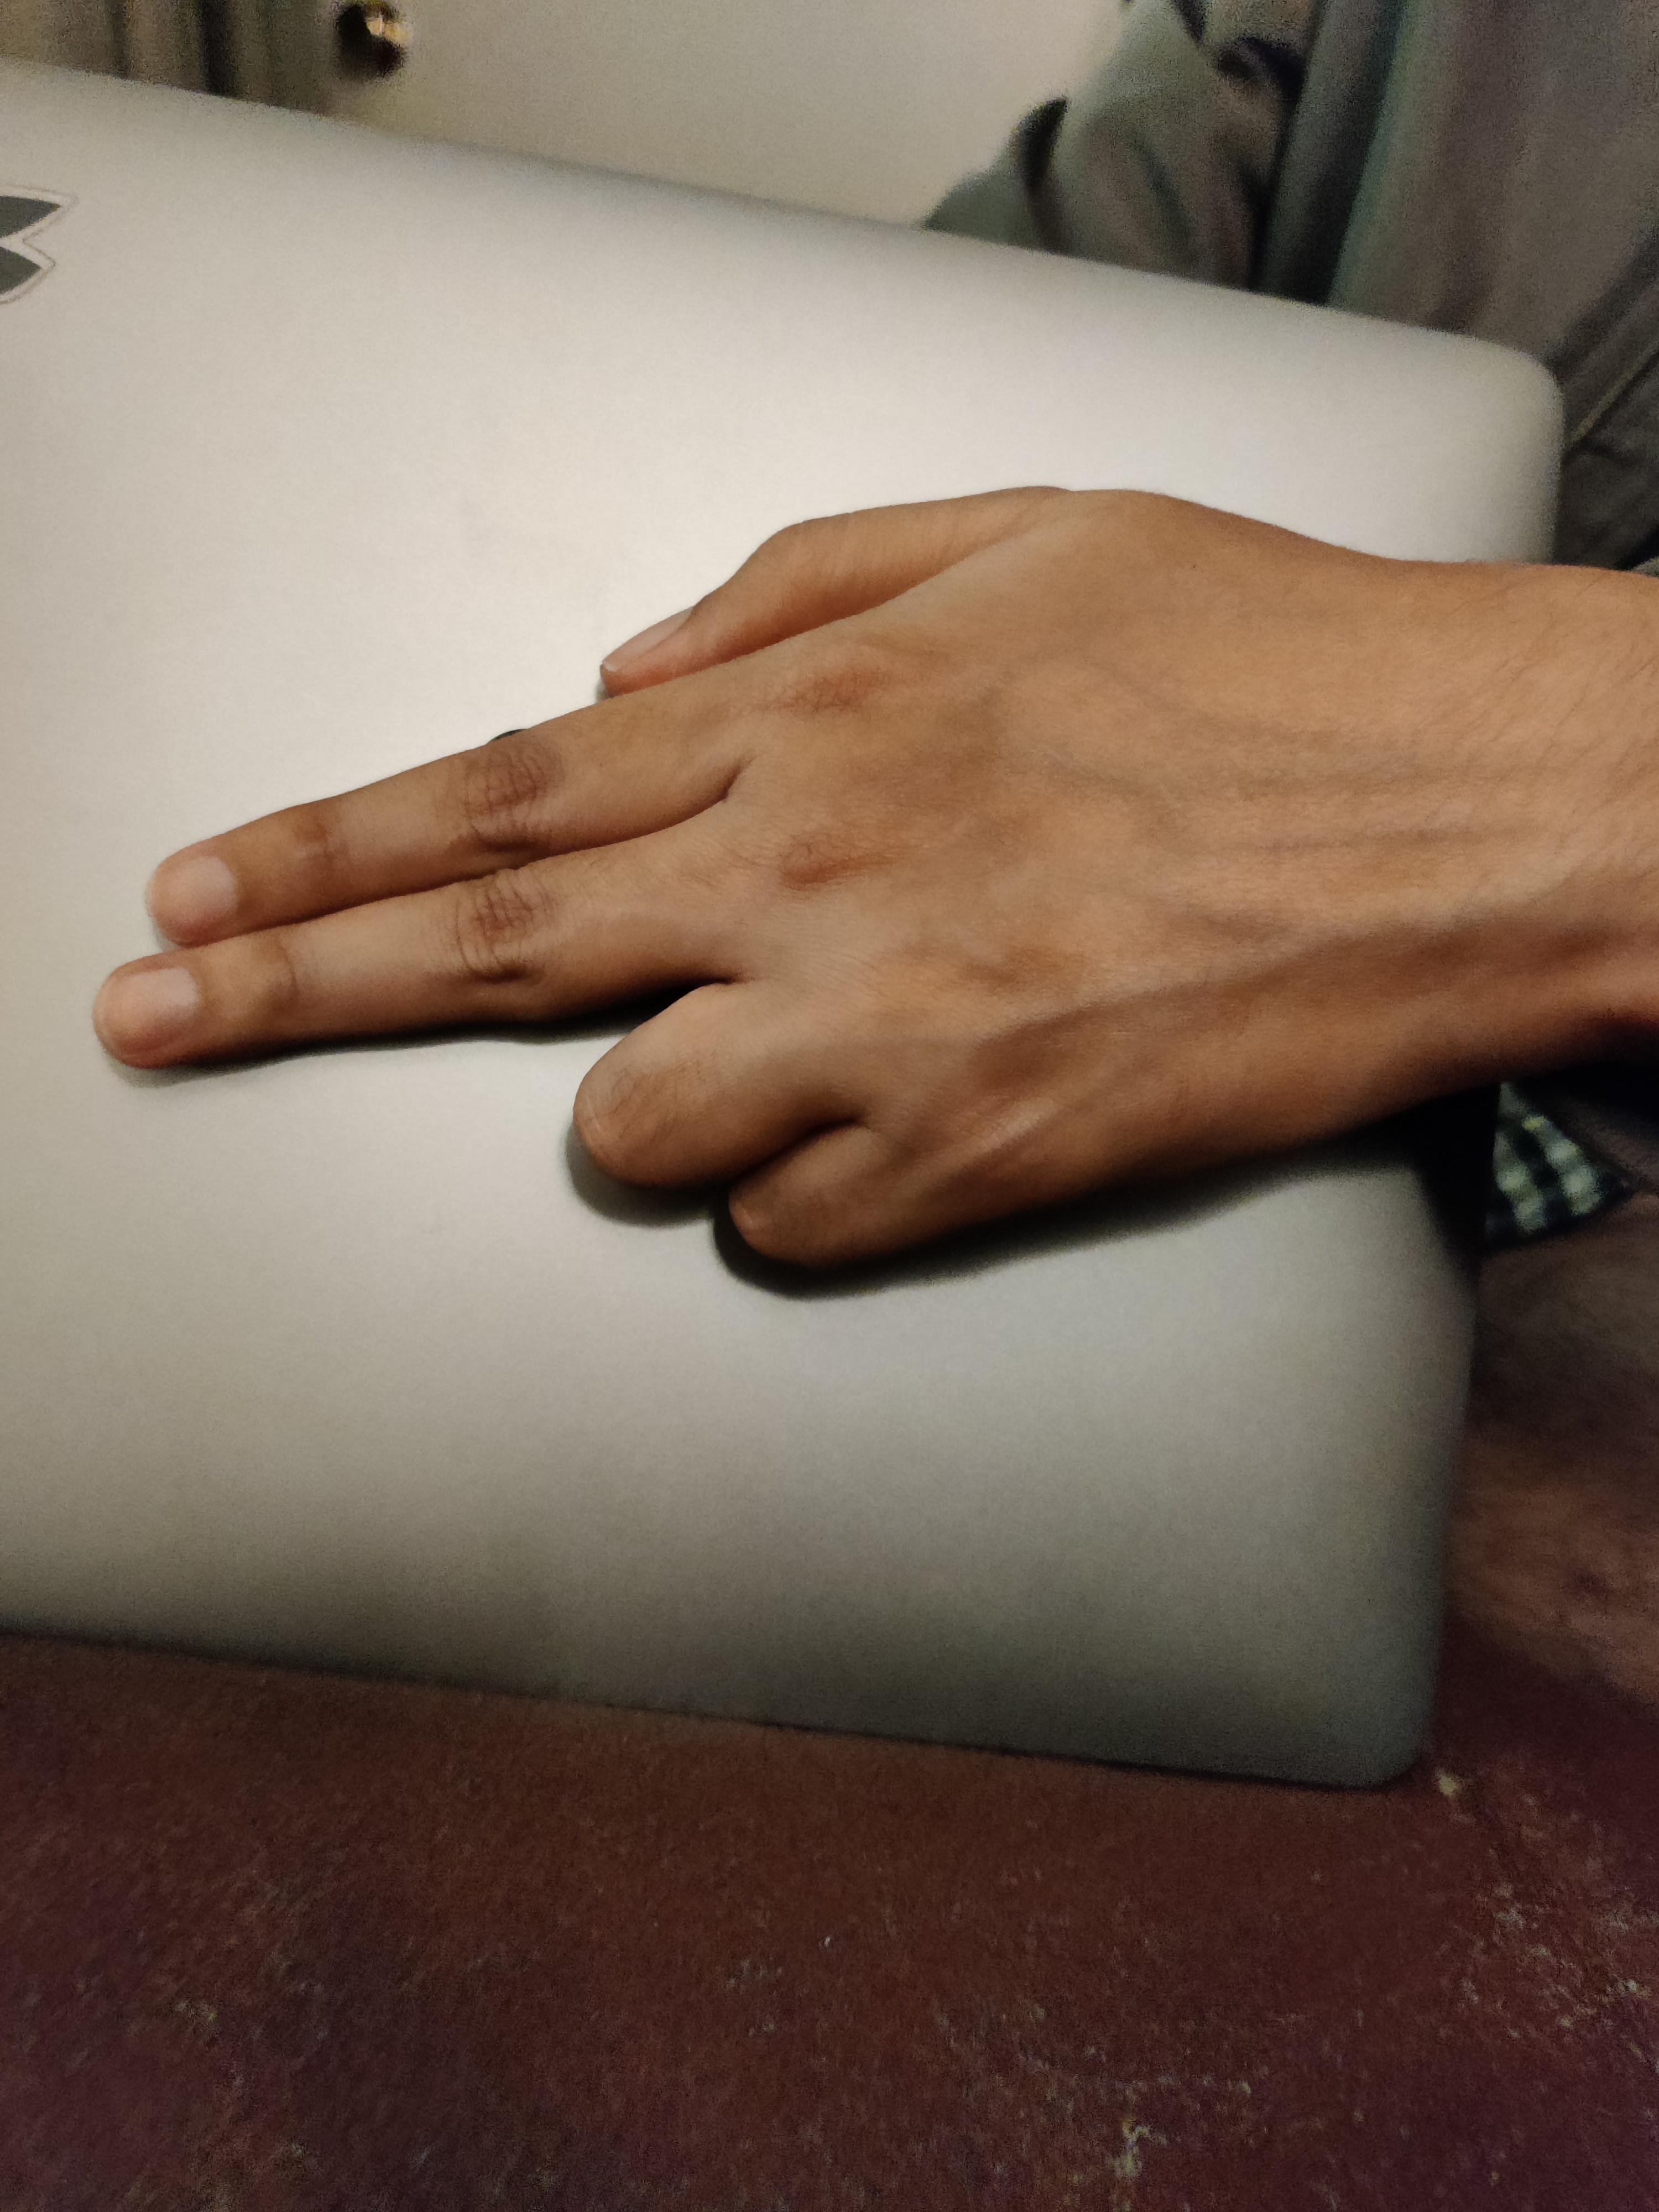right: (17, 404, 1568, 1587)
